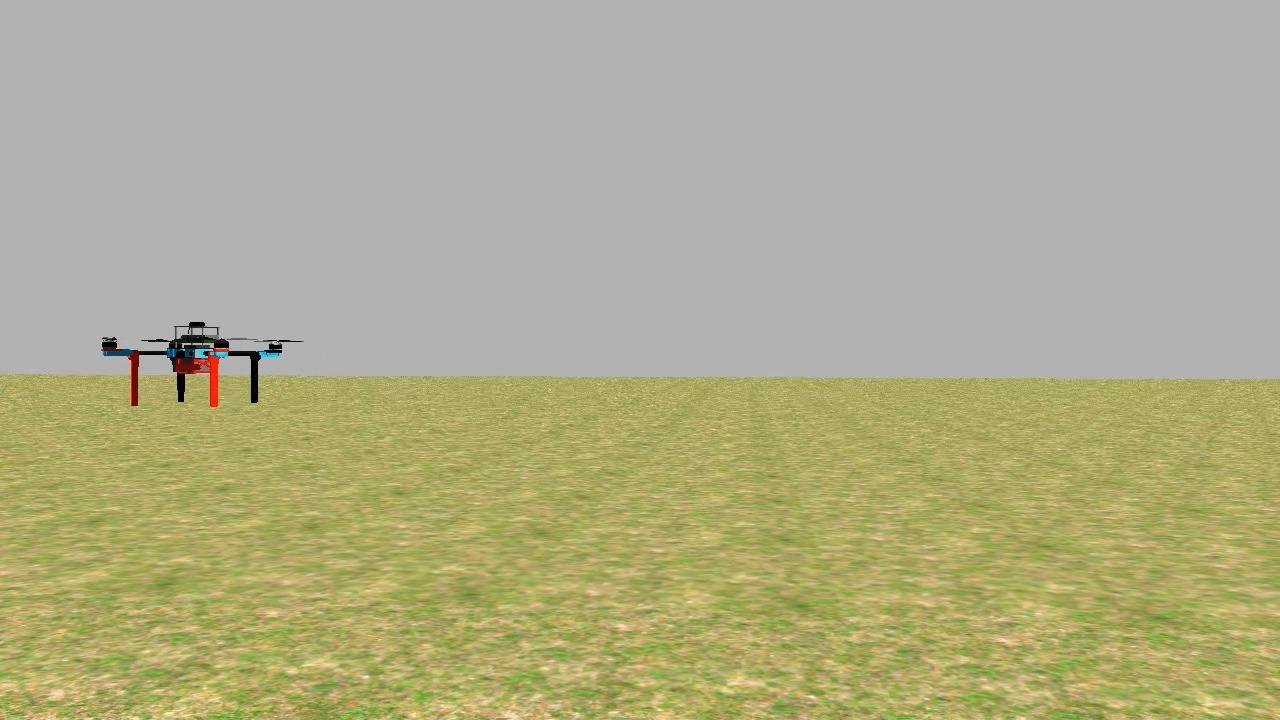UAV: (90, 312, 294, 427)
